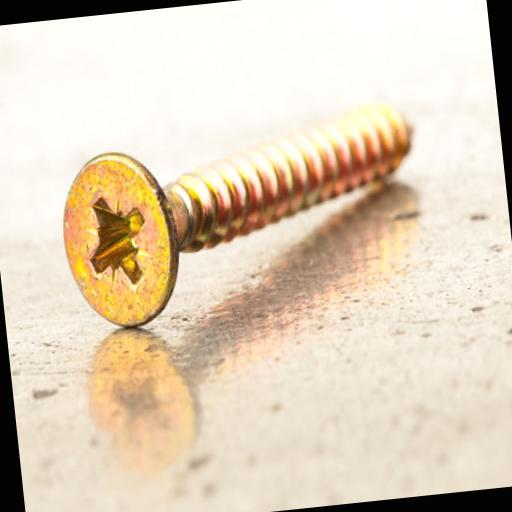Phillips: (54, 139, 184, 334)
